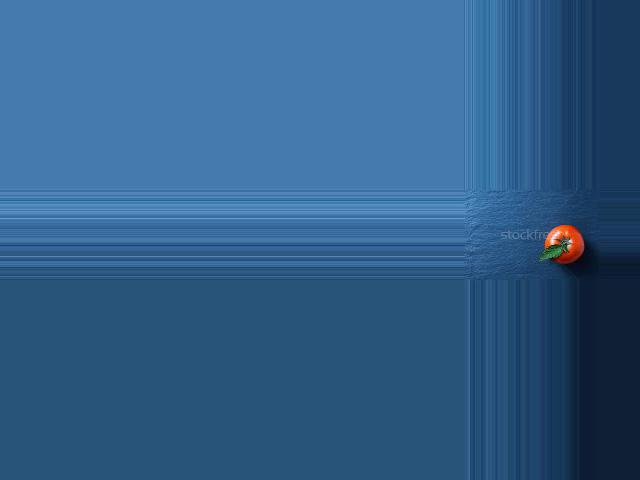tomato: (544, 225, 584, 263)
